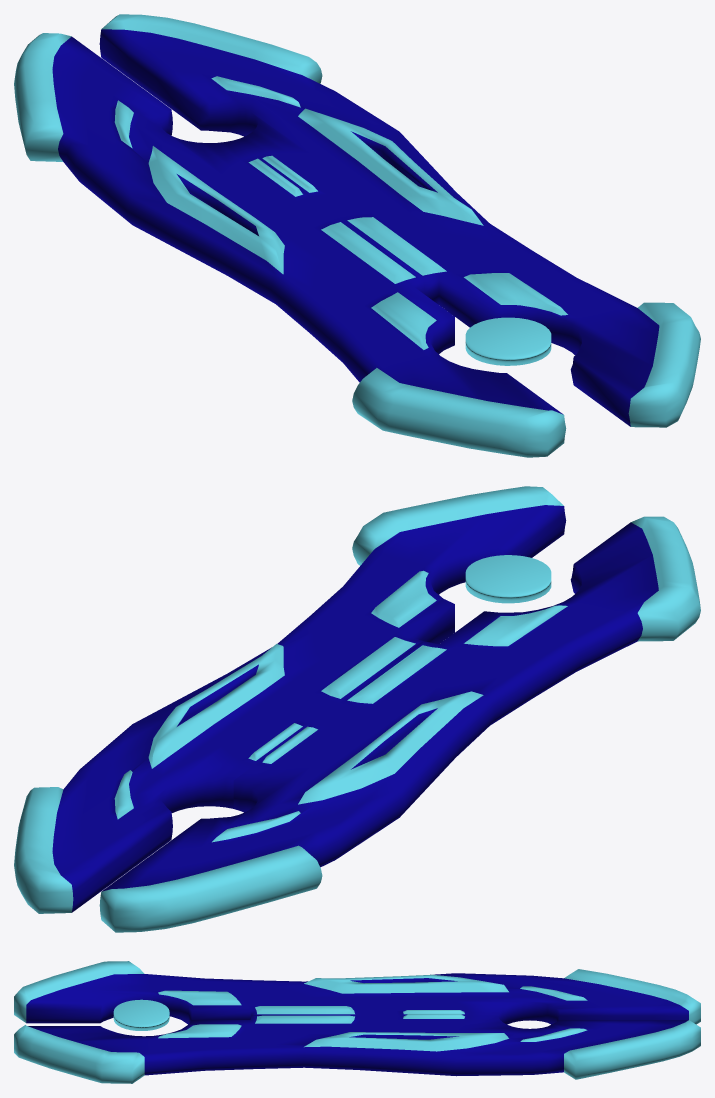
Rendered from hoverboard.glb.
The picture shows the model from 3 angles, top to bottom: view 1: azimuth 30°, elevation 25°; view 2: azimuth 150°, elevation 25°; view 3: azimuth 270°, elevation 25°; orthographic projection. The views are drawn at different scales.
Visible parts, largest first — view 1: Plane, Cylinder; view 2: Plane, Cylinder; view 3: Plane, Cylinder.
Part boxes in pixels (x1,y1,x2,y2): Plane: (14,14,700,457); Cylinder: (465,317,551,365); Plane: (14,486,700,932); Cylinder: (465,555,551,603); Plane: (14,961,700,1083); Cylinder: (113,999,169,1030).
Bounding box in the file's own units: 3.36 × 0.3887 × 9.44.
